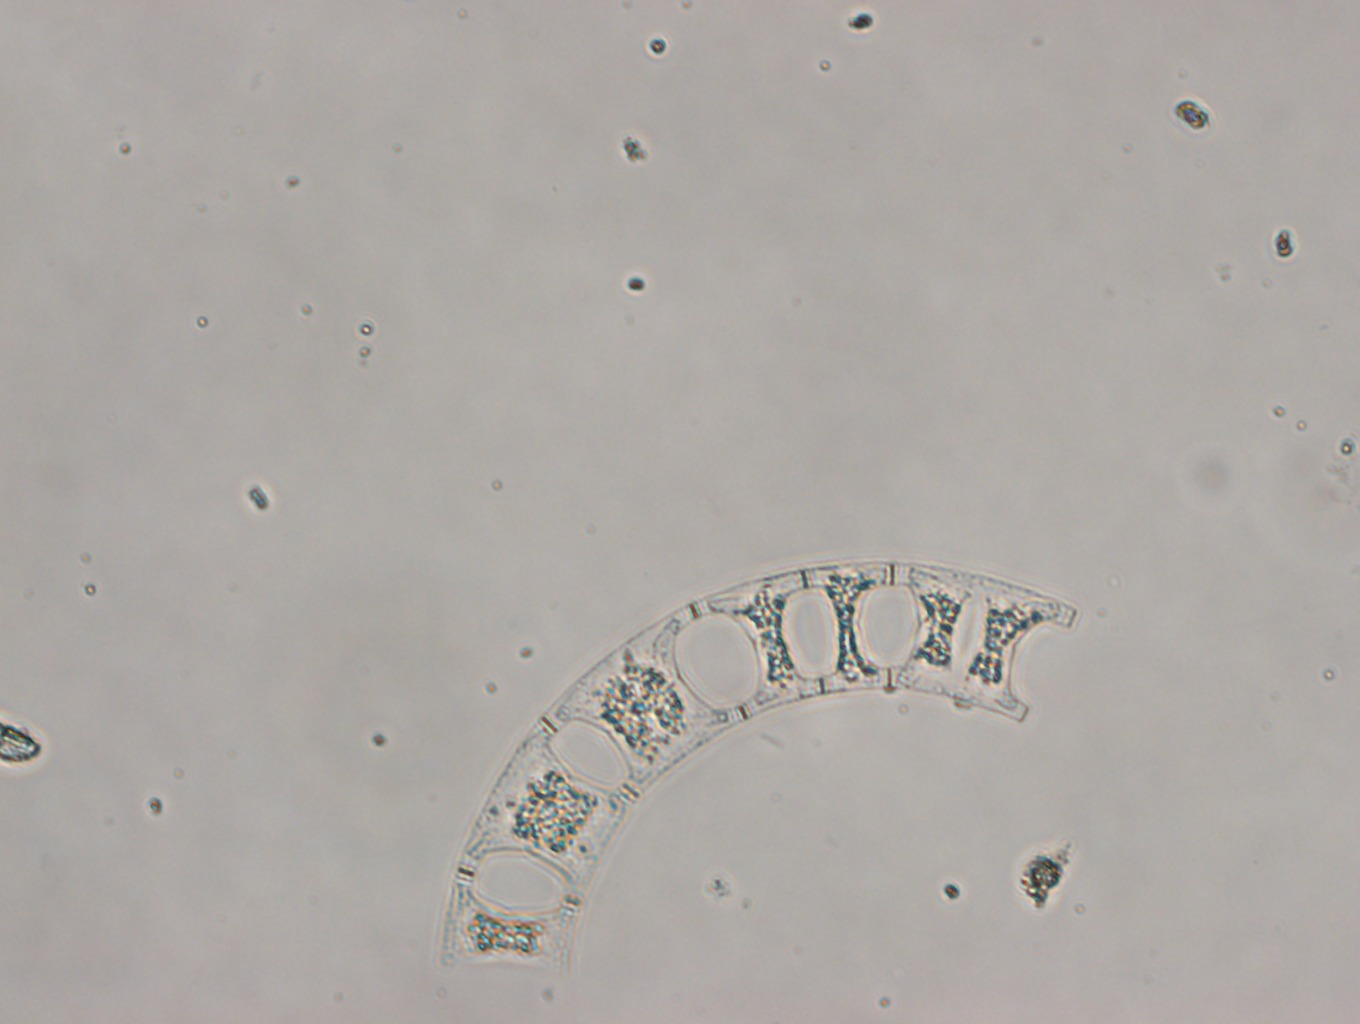eucampia: (439, 560, 1080, 976)
